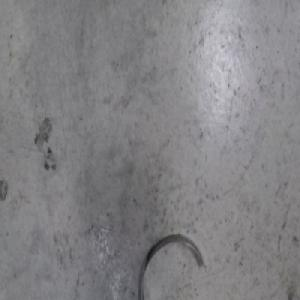AdjustableClamp: (139, 231, 207, 300)
